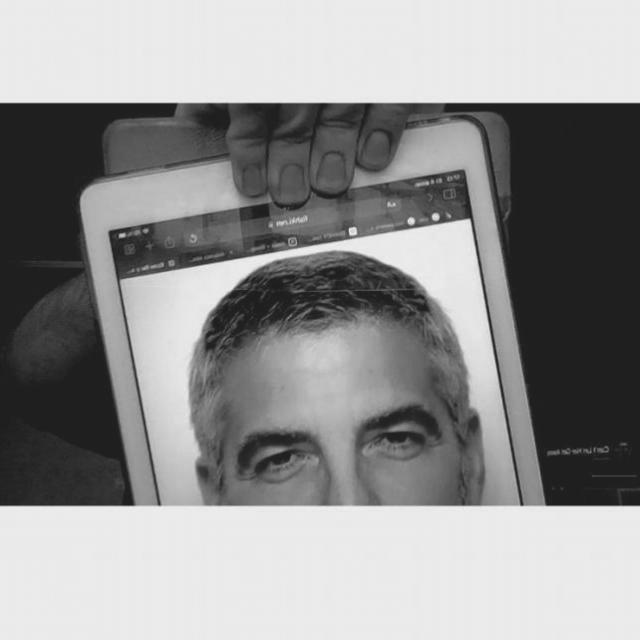fake: (74, 108, 548, 504)
